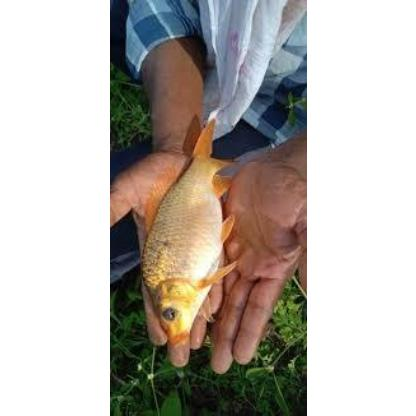ikan-mas: (140, 113, 230, 339)
